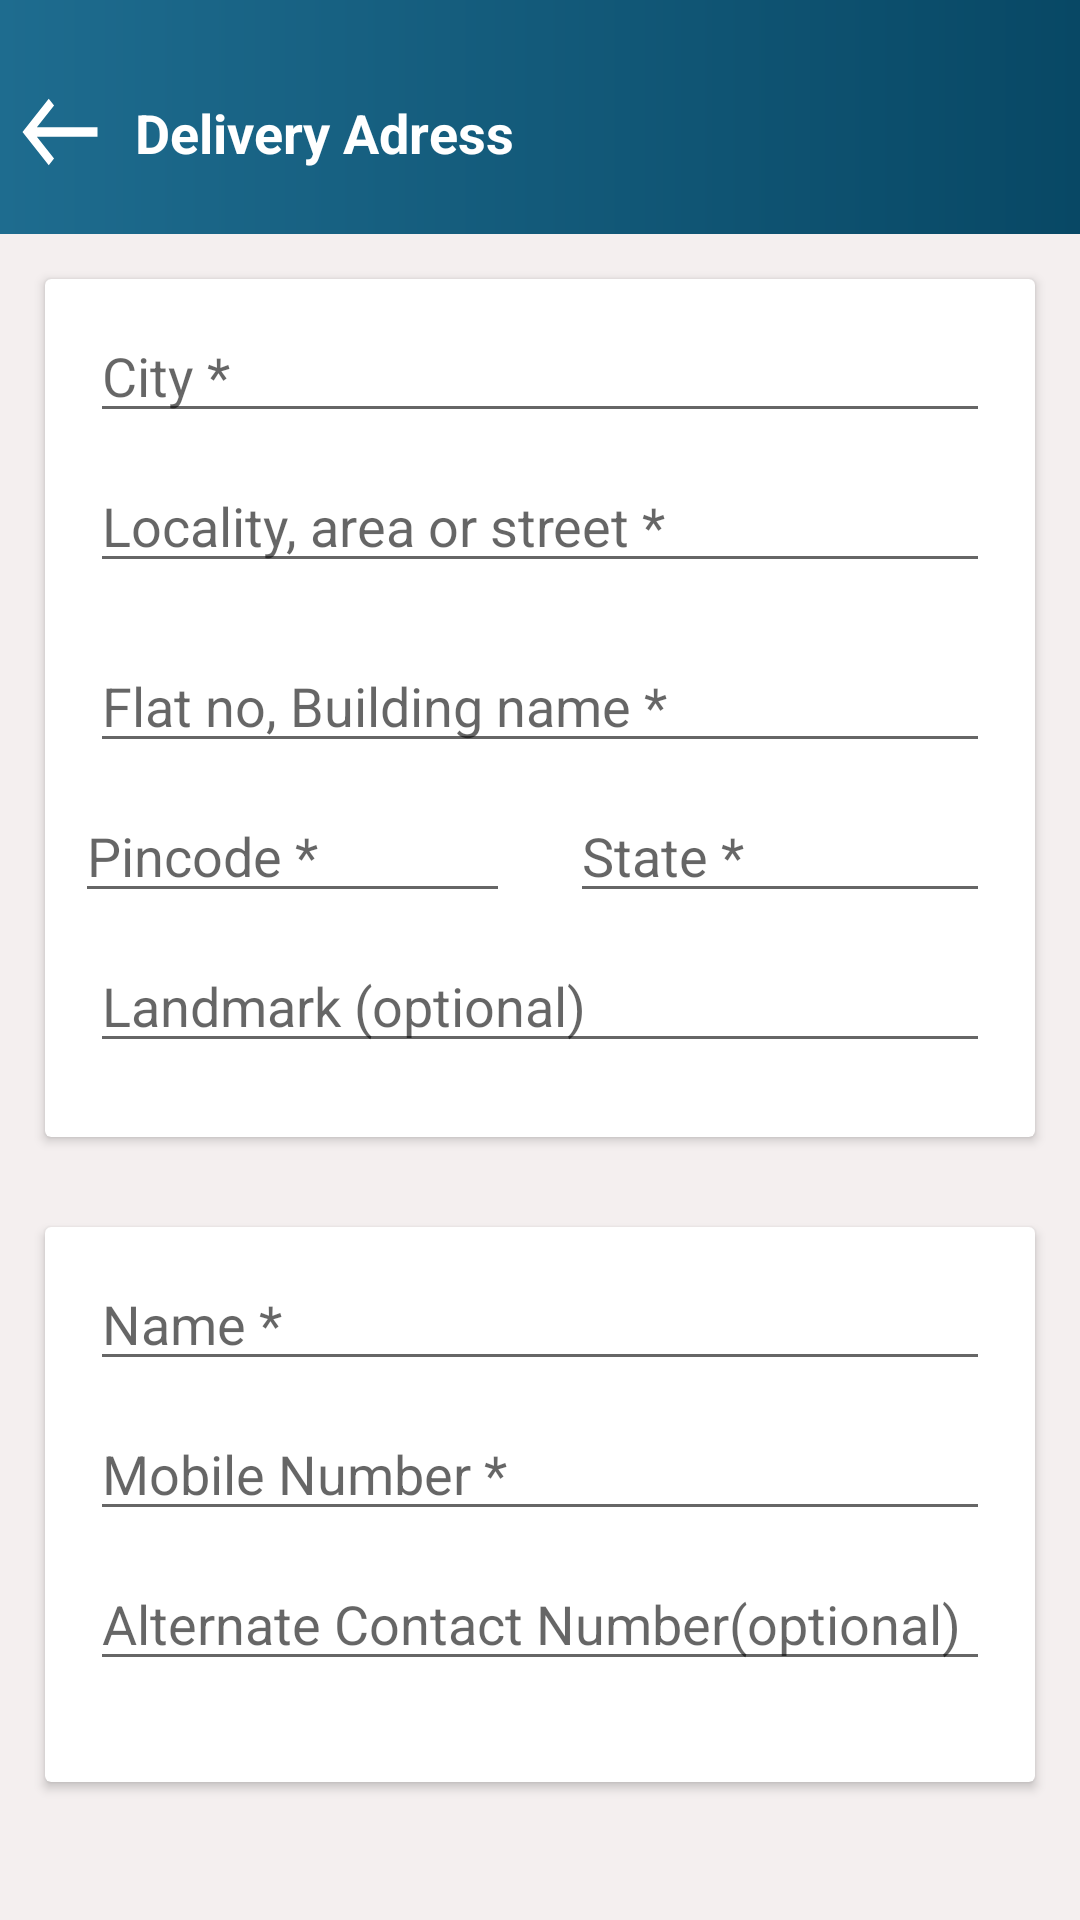

Named icons in this screenshot (1080 × 1920) and their bounding boxes, (x1, y1, x2, y2):
west: (22, 99, 98, 165)
